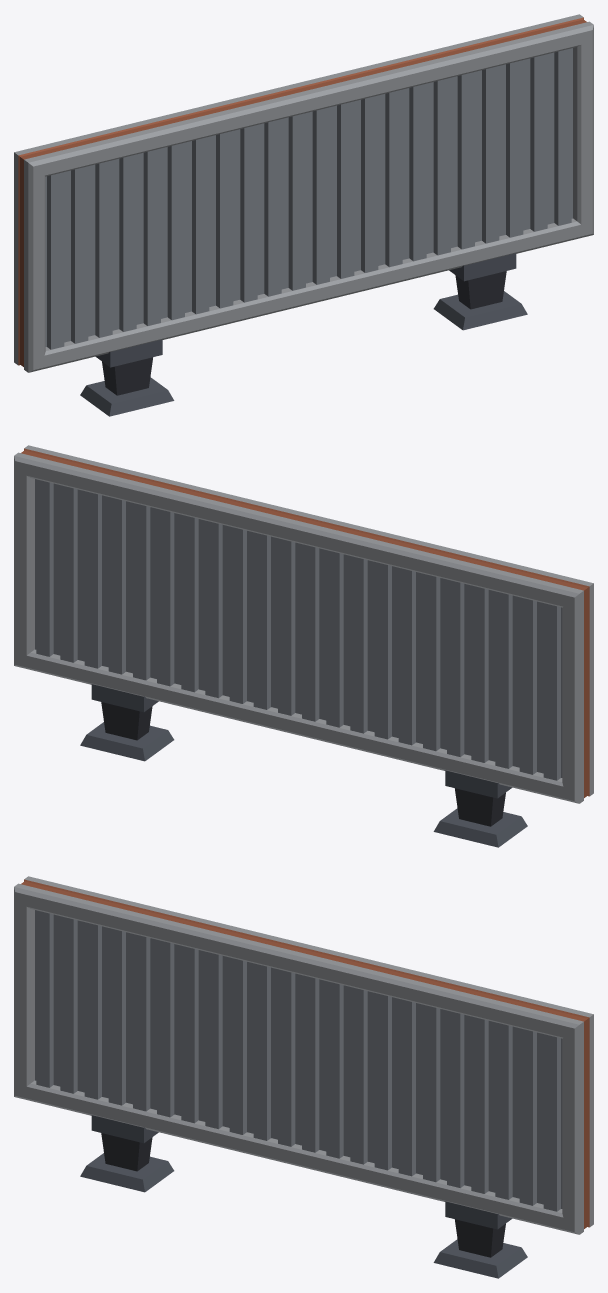
File: radiator-panel-ea7d86.glb
3 renders of one model, top to bottom at view 1: azimuth 30°, elevation 25°; view 2: azimuth 150°, elevation 25°; view 3: azimuth 330°, elevation 25°, orthographic.
Visible parts, largest first — view 1: radiator-panel-body; view 2: radiator-panel-body; view 3: radiator-panel-body.
Part boxes in pixels (bbox=[...]): radiator-panel-body: bbox=[14, 14, 593, 416]; radiator-panel-body: bbox=[14, 445, 593, 847]; radiator-panel-body: bbox=[14, 876, 593, 1278].
Bounding box in the file's own units: 4 × 1.8 × 0.36.
